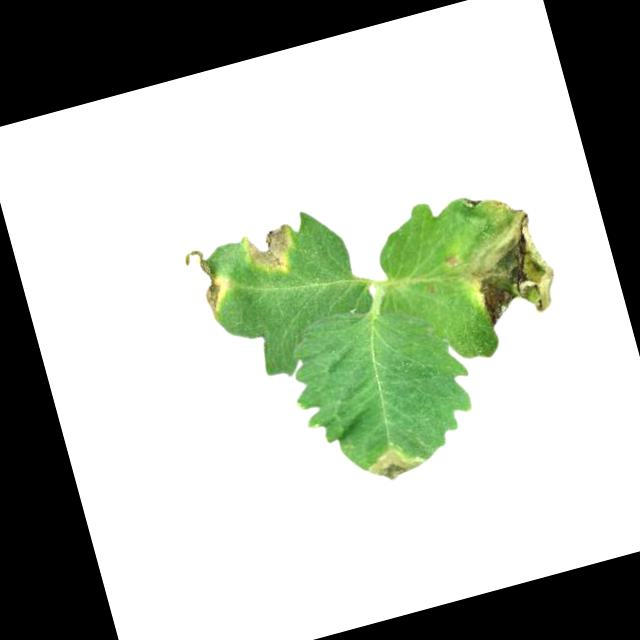Late_blight: (438, 178, 567, 335), (182, 243, 236, 321), (241, 221, 303, 283), (364, 443, 425, 488)
